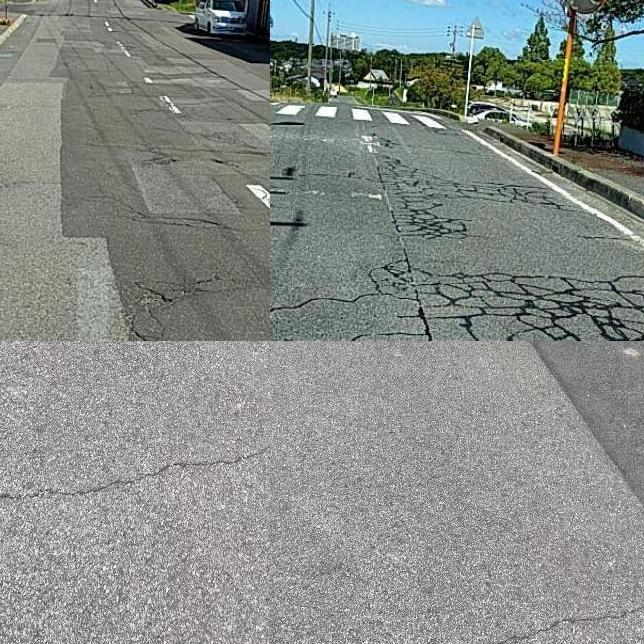Melintang: (339, 583, 644, 644)
Retak Buaya: (407, 274, 644, 341)
Sambungan: (0, 77, 136, 341), (531, 341, 644, 516)
